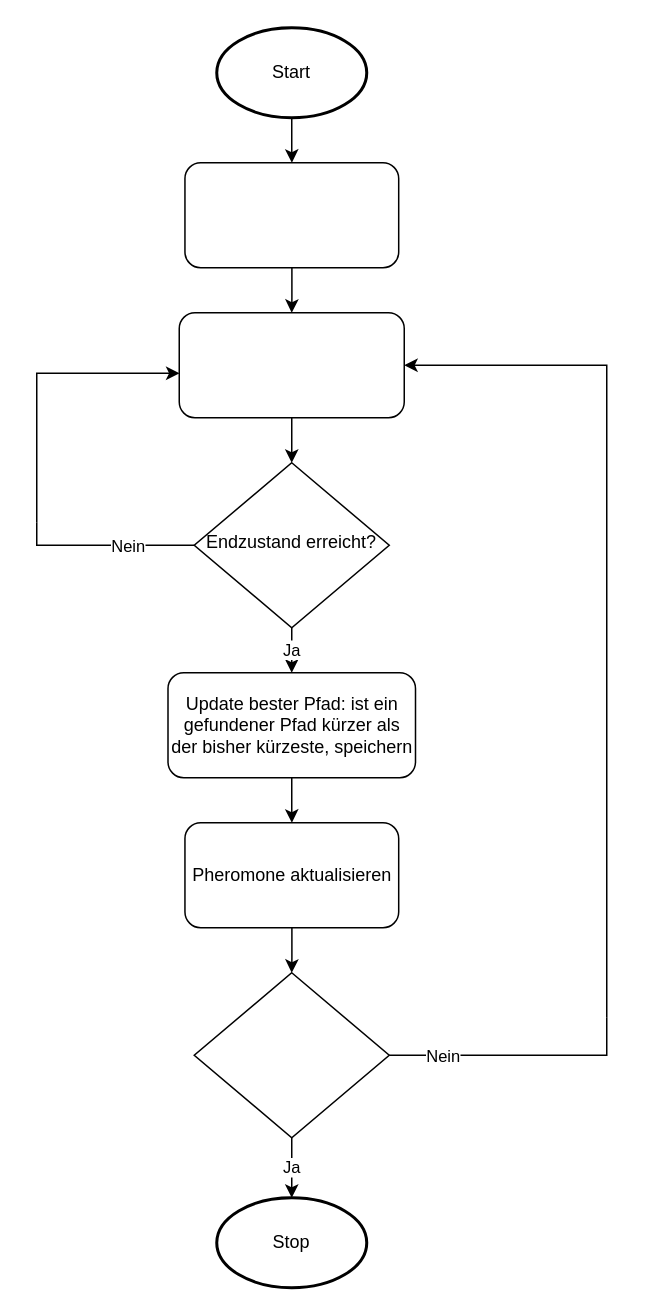
Some shapes in this 645 by 1314 pixel diagram are drawn without their labels. The centre of each missing label's shape, as x and y in pixels:
"Abbruchkriterium erreicht?" goes at (x=291, y=1054).
"Agent wechselt Zustand in Abhängigkeit der zugehörigen Wahrscheinlichkeit" goes at (x=291, y=364).
"Initialisierung der Zustände" goes at (x=291, y=214).
